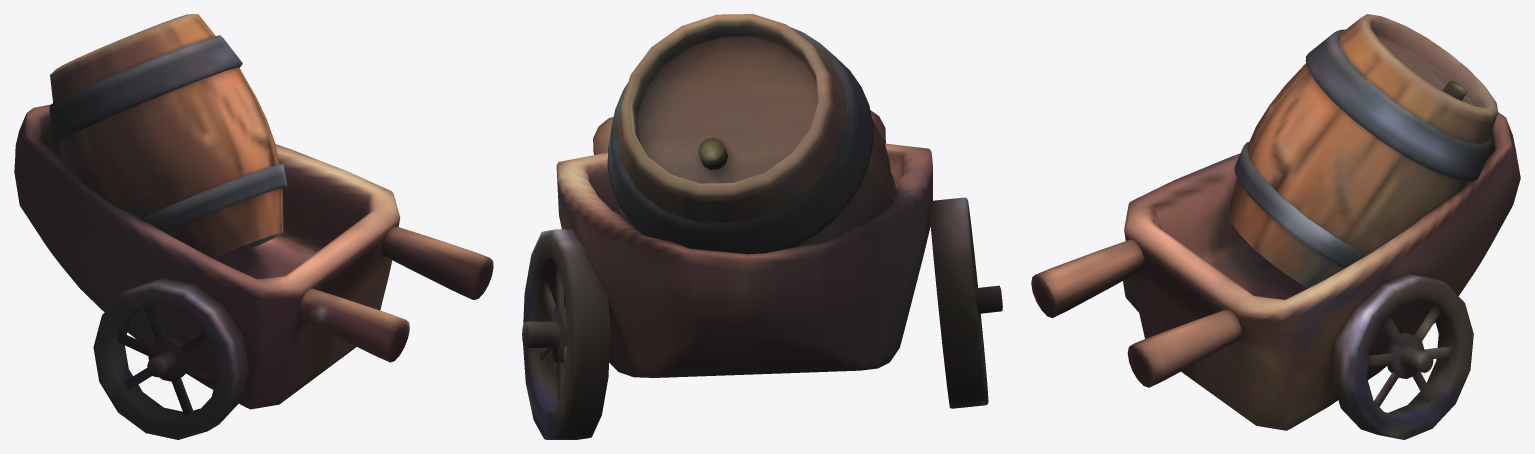
Rendered from Beach_Debris_3.glb.
The picture shows the model from 3 angles, left to right: view 1: azimuth 30°, elevation 25°; view 2: azimuth 150°, elevation 25°; view 3: azimuth 270°, elevation 25°; orthographic projection. The views are drawn at different scales.
Visible parts, largest first — view 1: Object_2.022; view 2: Object_2.022; view 3: Object_2.022.
Part boxes in pixels (x1,y1,x2,y2): Object_2.022: (14,14,493,439); Object_2.022: (522,14,1002,439); Object_2.022: (1031,14,1520,439).
Bounding box in the file's own units: 11.29 × 10.31 × 13.37.
Materials: 1 (1 with a texture image).
